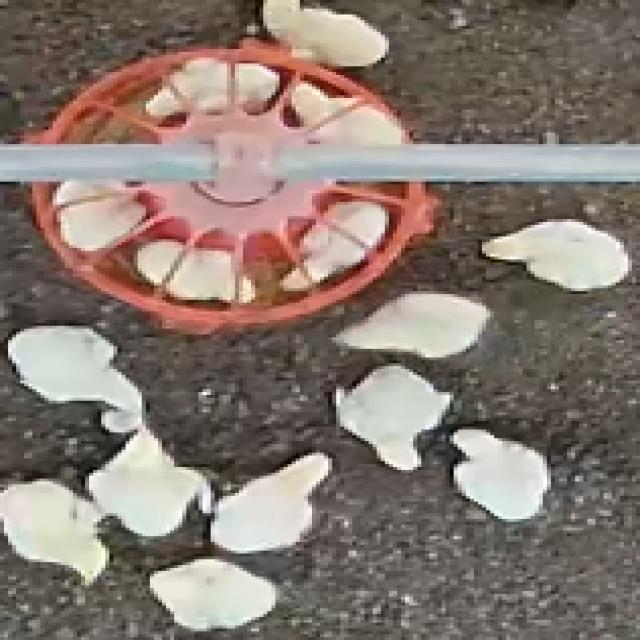broiler: (85, 424, 211, 533), (332, 363, 450, 470), (12, 326, 142, 418), (211, 453, 328, 548), (0, 479, 105, 582), (332, 291, 486, 357), (482, 219, 628, 288), (279, 202, 385, 288), (150, 559, 275, 628), (263, 0, 385, 66), (458, 430, 547, 516), (134, 239, 251, 300), (288, 81, 405, 141), (57, 182, 142, 248), (146, 58, 231, 115), (231, 63, 275, 107)
pipe: (279, 144, 636, 179), (0, 144, 211, 179)
rice: (24, 40, 437, 329)
